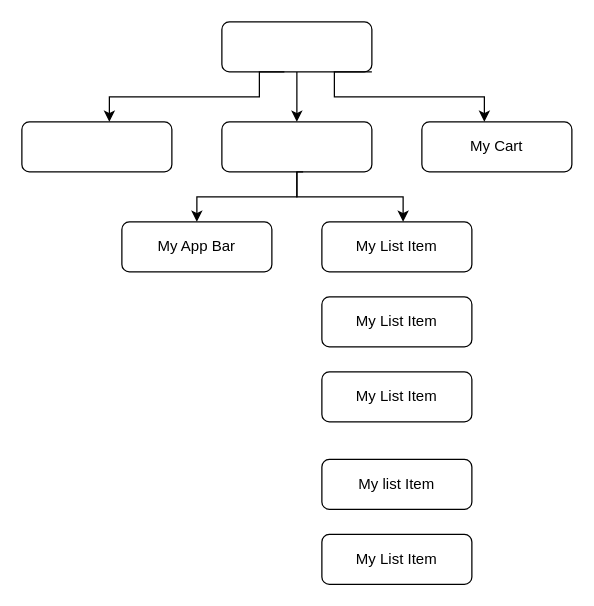
The diagram is 594 pixels wide and 606 high, and some of its shapes have lost their labels. Here are the shapes that lost their labels. From the top down, the centre of each, then its label:
the point at 296,46: My App
the point at 296,146: My Catalog
